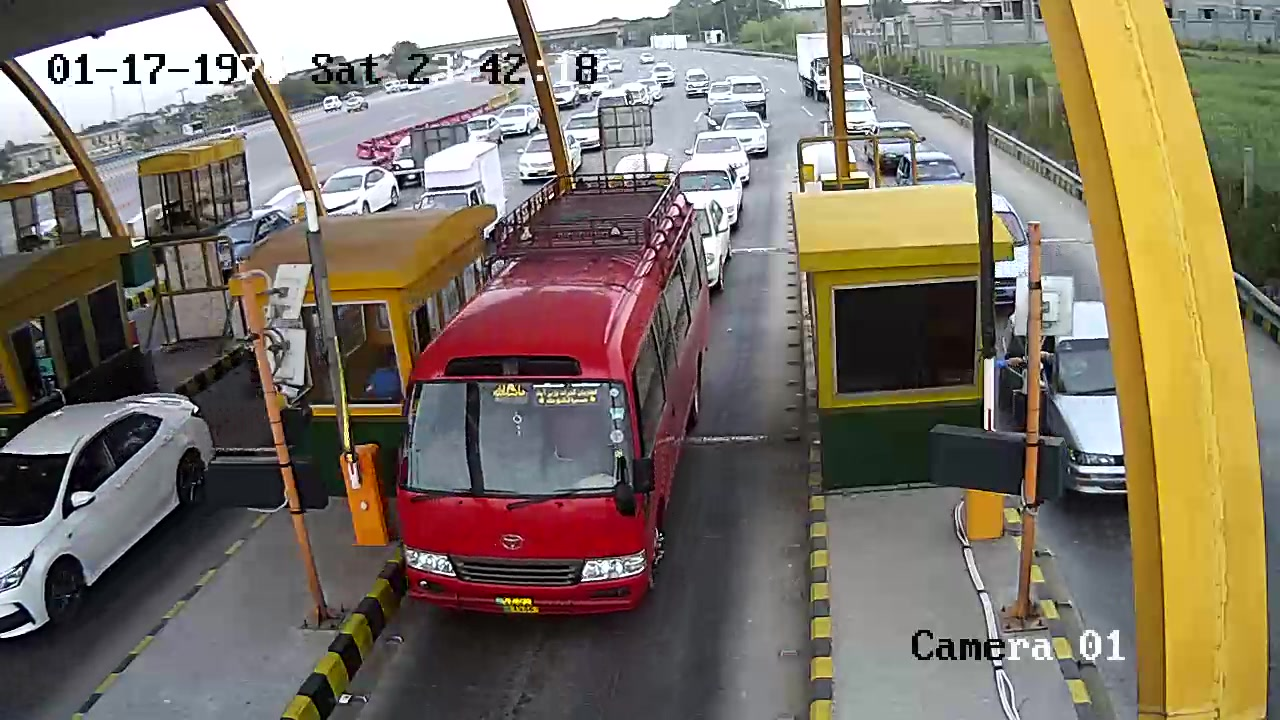F3: (391, 166, 722, 634)
